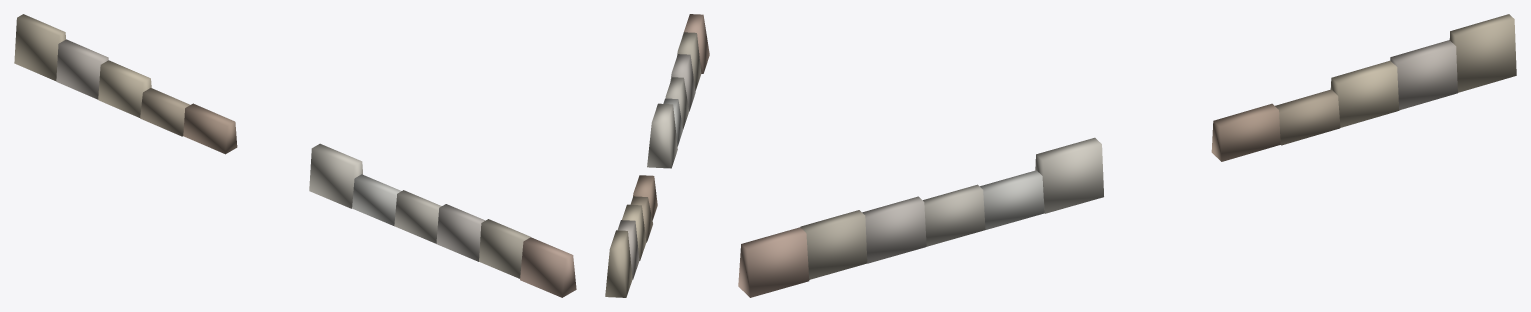
The model's file is farm_-5_7_collision.glb.
The picture shows the model from 3 angles, left to right: view 1: azimuth 30°, elevation 25°; view 2: azimuth 150°, elevation 25°; view 3: azimuth 270°, elevation 25°; orthographic projection. The views are drawn at different scales.
Parts seen in each view (by area): view 1: geometry_0; view 2: geometry_0; view 3: geometry_0.
Part boxes in pixels (left/top/right/bottom): geometry_0: left=14, top=14, right=576, bottom=297; geometry_0: left=605, top=14, right=709, bottom=297; geometry_0: left=738, top=14, right=1516, bottom=297.
Size of the model in its own units: 8.75 by 3.54 by 18.79.
